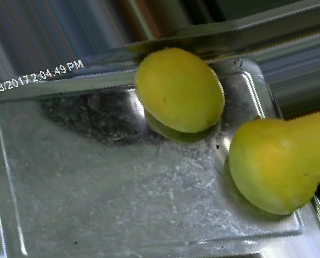Mango: (227, 116, 318, 216), (133, 46, 224, 131)
